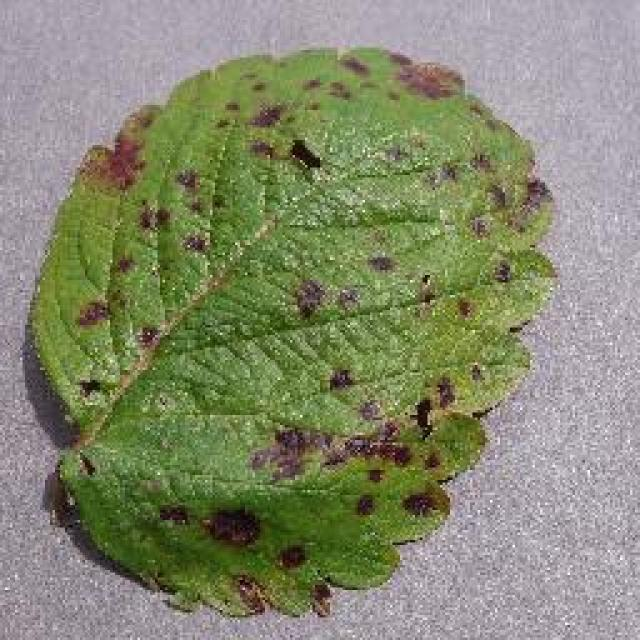Strawberry___Leaf_scorch: (8, 20, 572, 638)
